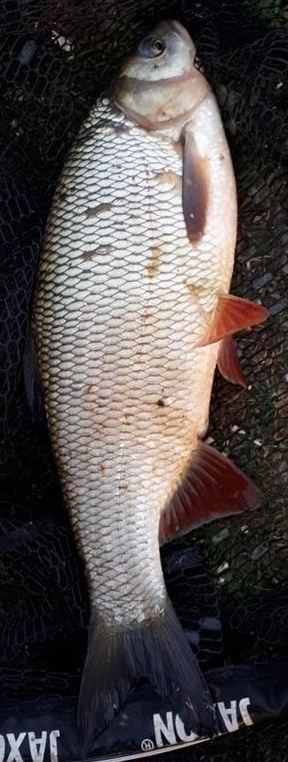Leuciscus idus: (20, 20, 268, 742)
